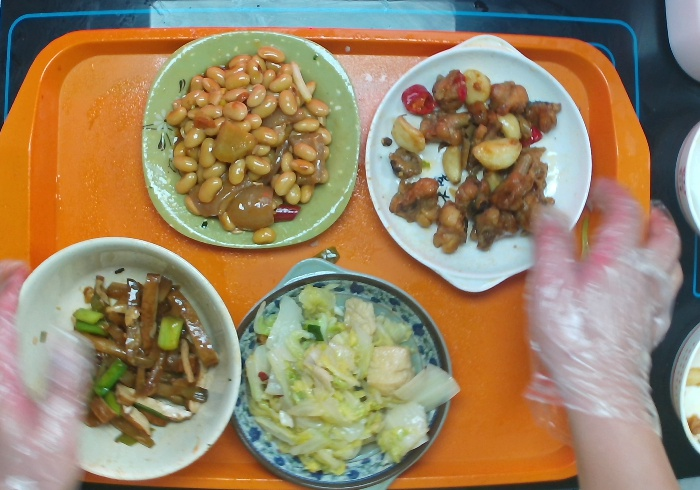NLDX-Bai_Se_Shuang_Er_Die: (362, 33, 594, 294)
NLDX-Bai_Se_Yuan_Wan: (16, 237, 242, 483)
NLDX-Lv_Hua_Fang_Die: (142, 32, 361, 248)
NLDX-Qing_Hua_Shuang_Er_Die: (229, 256, 453, 490)
